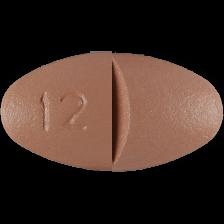62559-160: (0, 0, 224, 224)
